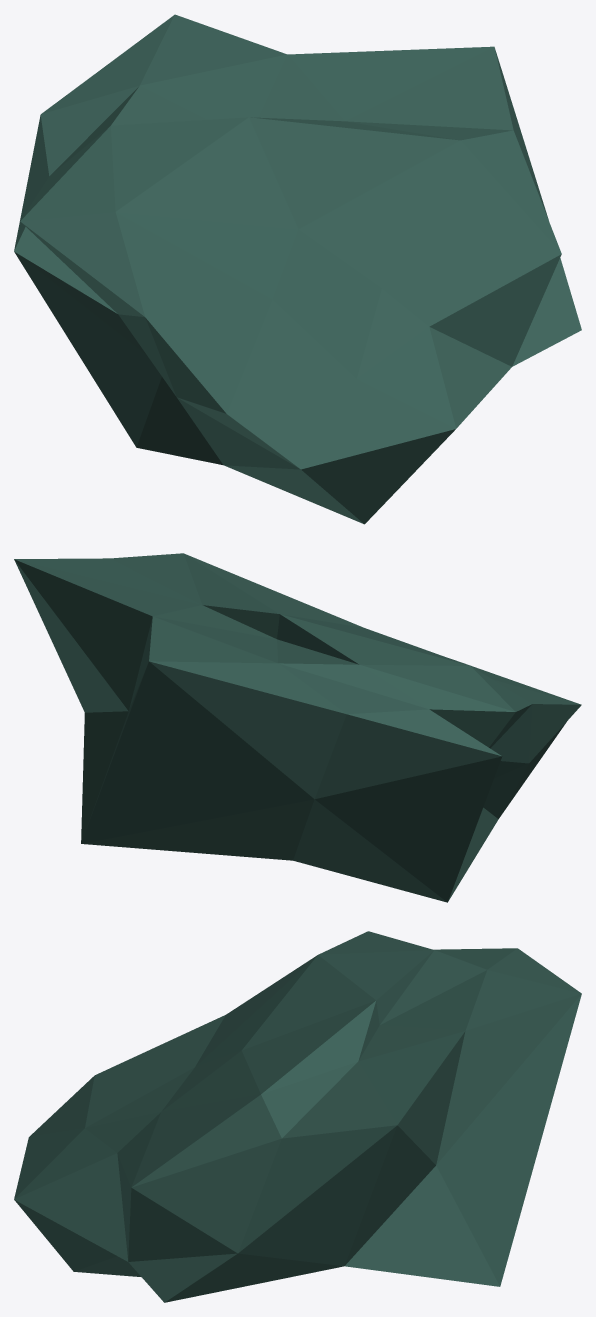
The model's file is Stone_29.fbx.
3 renders of one model, top to bottom at view 1: azimuth 30°, elevation 25°; view 2: azimuth 150°, elevation 25°; view 3: azimuth 270°, elevation 25°, orthographic.
Visible parts, largest first — view 1: Stone 29; view 2: Stone 29; view 3: Stone 29.
Part boxes in pixels (x1,y1,x2,y2): Stone 29: [14, 14, 581, 524]; Stone 29: [14, 553, 581, 902]; Stone 29: [14, 931, 581, 1302].
Bounding box in the file's own units: 184 × 111 × 184.
